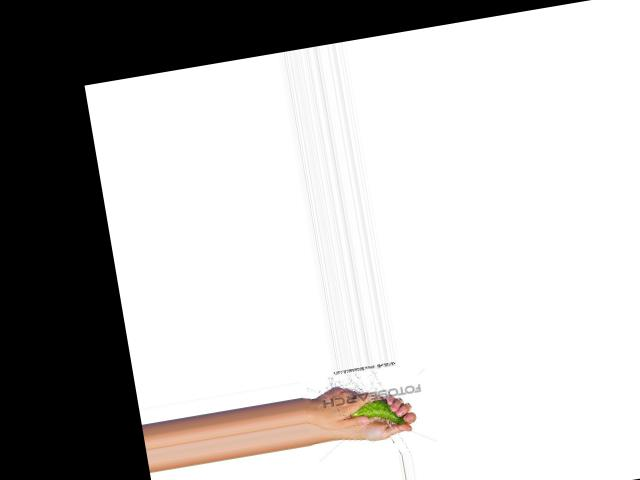cucumber: (346, 394, 406, 432)
